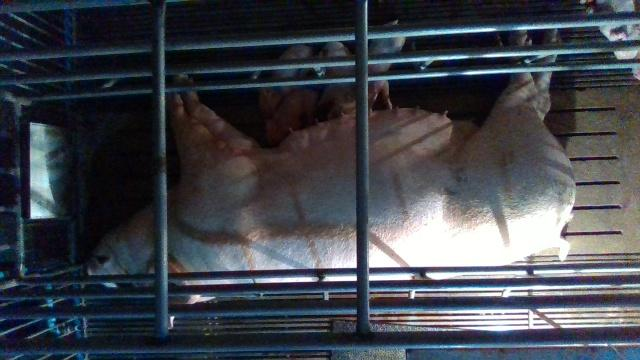piglet: (257, 44, 315, 117), (262, 90, 319, 148), (368, 20, 403, 112), (316, 42, 356, 119)
sow-sleep-lactate: (87, 27, 576, 291)
